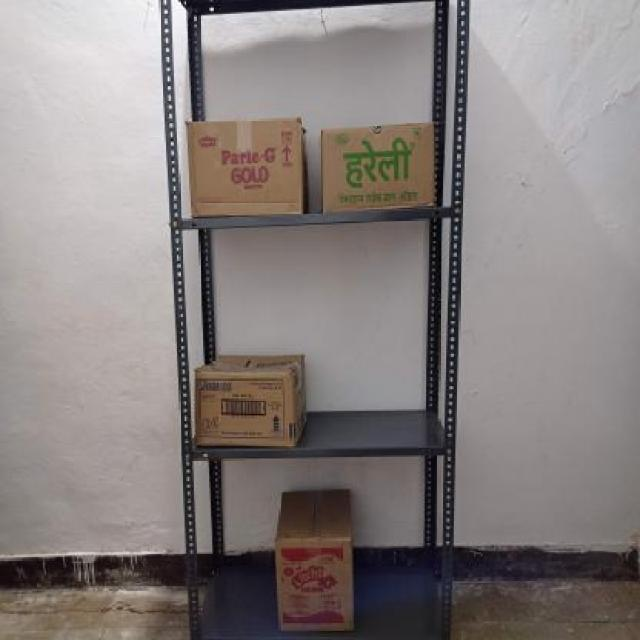box: (187, 117, 301, 216), (318, 126, 436, 208), (194, 374, 294, 446), (276, 540, 350, 636)
